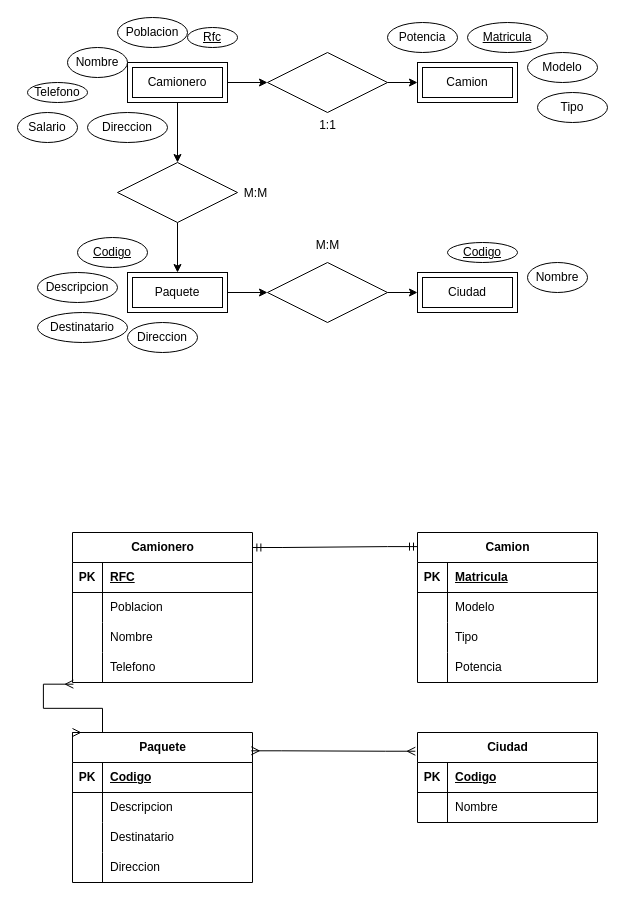
Some shapes in this 625 by 900 pixel diagram are drawn without their labels. Each missing label, with the box of its shape:
Conduce: (266, 52, 388, 112)
Destinado: (266, 262, 388, 322)
Distribuye: (116, 162, 238, 222)
